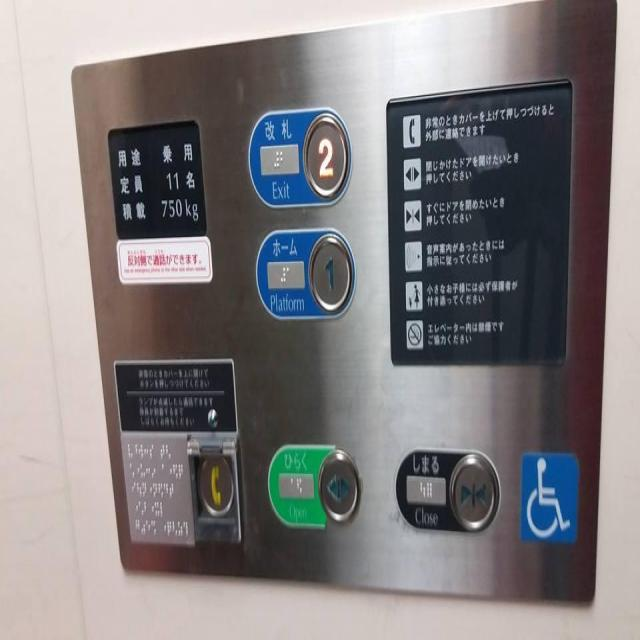1: (306, 229, 358, 316)
2: (300, 108, 352, 204)
CH: (517, 446, 578, 545)
call: (194, 448, 235, 520)
close: (446, 447, 501, 537)
open: (315, 444, 362, 528)
